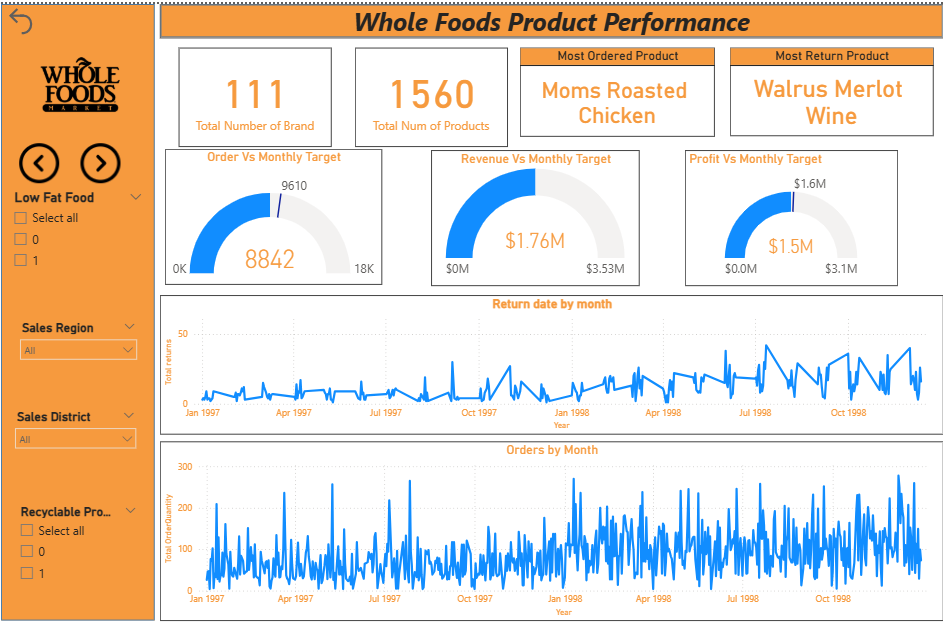

Layout of this report page (visuals, bound fields, positions):
{"tool":"powerbi","page":{"name":"Product Details","canvas":[1280,850],"ordinal":2},"visuals":[{"type":"group","id":"g1","title":"Group 4","box":[1.4,0,207.9,835.9],"z":0},{"type":"group","id":"g2","title":"Group 1","box":[1.4,0,207.9,835.9],"z":0,"group":"g1"},{"type":"card","fields":{"Values":["Min(WholeFoods_Products.product_name)"]},"box":[989.9,83.7,275.7,95.7],"z":0,"group":"g3"},{"type":"card","fields":{"Values":["Measure Table.Total Brand"]},"box":[242,59.4,207.2,134.8],"z":1000},{"type":"shape","title":"Most Return Product","box":[989.9,59.4,275.7,24.3],"z":1000,"group":"g3"},{"type":"slicer","fields":{"Values":["WholeFoods_Regions.sales_region"]},"box":[15.8,424.4,179,78],"z":1000,"group":"g1"},{"type":"shape","box":[1.4,0,207.9,835.9],"z":1501,"group":"g2"},{"type":"card","fields":{"Values":["Measure Table.total num of products"]},"box":[481.2,59.4,207.2,134.8],"z":2000},{"type":"slicer","fields":{"Values":["WholeFoods_Products.low_fat"]},"box":[5.7,248.3,197.8,147.2],"z":2000,"group":"g1"},{"type":"image","box":[24.5,46.2,166,132.8],"z":2001,"group":"g2"},{"type":"card","fields":{"Values":["Min(WholeFoods_Products.product_name)"]},"box":[704.3,83.7,264.3,97.1],"z":2001,"group":"g4"},{"type":"shape","title":"Most Ordered Product","box":[704.3,59.4,264.3,24.3],"z":2007,"group":"g4"},{"type":"group","id":"g3","title":"Group 3","box":[989.9,59.4,275.4,120.3],"z":3000},{"type":"slicer","fields":{"Values":["WholeFoods_Regions.sales_district"]},"box":[10.1,544.2,184.8,69.3],"z":3000,"group":"g1"},{"type":"group","id":"g4","title":"Group 2","box":[704.3,59.4,265.2,121.7],"z":4000},{"type":"slicer","fields":{"Values":["WholeFoods_Products.recyclable"]},"box":[14.4,672.7,181.9,129.9],"z":4000,"group":"g1"},{"type":"gauge","title":"Order Vs Monthly Target","fields":{"Y":["Measure Table.Total OrderQuantity"],"TargetValue":["Measure Table.Target order"]},"box":[223.2,197.1,294.2,184.1],"z":5000},{"type":"gauge","title":"Revenue Vs Monthly Target","fields":{"TargetValue":["Measure Table.Target Revenue"],"Y":["Measure Table.Total Revenue"]},"box":[584.1,198.6,282.6,184.1],"z":6000},{"type":"gauge","title":"Profit Vs Monthly Target","fields":{"TargetValue":["Measure Table.Target profit"],"Y":["Measure Table.Total Profit"]},"box":[929,198.6,288.4,184.1],"z":7000},{"type":"lineChart","title":"Return date by month","fields":{"Y":["Measure Table.Total returns"],"Category":["WholeFoods_Calendar.date.Variation.Date Hierarchy.Year","WholeFoods_Calendar.date.Variation.Date Hierarchy.Quarter","WholeFoods_Calendar.date.Variation.Date Hierarchy.Month","WholeFoods_Calendar.date.Variation.Date Hierarchy.Day"]},"box":[217.4,395.7,1062.3,188.4],"z":8000},{"type":"lineChart","title":"Orders by Month","fields":{"Y":["Measure Table.Total OrderQuantity"],"Category":["WholeFoods_Calendar.date.Variation.Date Hierarchy.Year","WholeFoods_Calendar.date.Variation.Date Hierarchy.Quarter","WholeFoods_Calendar.date.Variation.Date Hierarchy.Month","WholeFoods_Calendar.date.Variation.Date Hierarchy.Day"]},"box":[217.4,592.8,1062.3,243.5],"z":9000},{"type":"actionButton","box":[4.3,0,100,46.4],"z":10000},{"type":"actionButton","box":[104,185.2,83.6,62.3],"z":10002,"group":"g1"},{"type":"actionButton","box":[21.3,185.2,68.9,62.3],"z":11000},{"type":"shape","box":[217.4,0,1062.3,46.4],"z":12000}]}

Visuals, with their boxes in screenshot pixels (x1, y1, x2, y2), scaled from the page's 1280x850 canvas onto the 943x630 screenshot:
"Group 4" group: crop(1, 0, 154, 620)
"Group 1" group: crop(1, 0, 154, 620)
card - Min(WholeFoods_Products.product_name): crop(729, 62, 932, 133)
card - Measure Table.Total Brand: crop(178, 44, 331, 144)
"Most Return Product" shape: crop(729, 44, 932, 62)
slicer - WholeFoods_Regions.sales_region: crop(12, 315, 144, 372)
shape: crop(1, 0, 154, 620)
card - Measure Table.total num of products: crop(355, 44, 507, 144)
slicer - WholeFoods_Products.low_fat: crop(4, 184, 150, 293)
image: crop(18, 34, 140, 133)
card - Min(WholeFoods_Products.product_name): crop(519, 62, 714, 134)
"Most Ordered Product" shape: crop(519, 44, 714, 62)
"Group 3" group: crop(729, 44, 932, 133)
slicer - WholeFoods_Regions.sales_district: crop(7, 403, 144, 455)
"Group 2" group: crop(519, 44, 714, 134)
slicer - WholeFoods_Products.recyclable: crop(11, 499, 145, 595)
"Order Vs Monthly Target" gauge: crop(164, 146, 381, 283)
"Revenue Vs Monthly Target" gauge: crop(430, 147, 639, 284)
"Profit Vs Monthly Target" gauge: crop(684, 147, 897, 284)
"Return date by month" lineChart: crop(160, 293, 942, 433)
"Orders by Month" lineChart: crop(160, 439, 942, 620)
actionButton: crop(3, 0, 77, 34)
actionButton: crop(77, 137, 138, 183)
actionButton: crop(16, 137, 66, 183)
shape: crop(160, 0, 942, 34)
